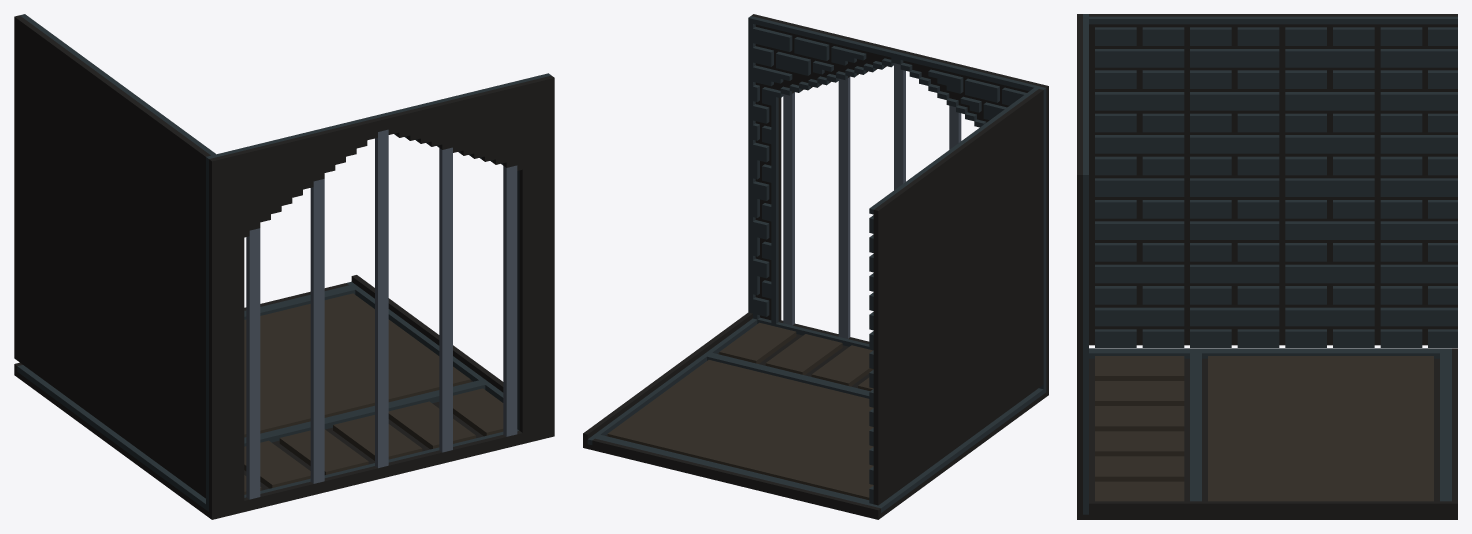
Rendered from corridor_gate_3.obj.
3 views of the same model, side by side, from view 1: azimuth 30°, elevation 25°; view 2: azimuth 150°, elevation 25°; view 3: azimuth 270°, elevation 25° (orthographic). The views are drawn at different scales.
Bounding box in the file's own units: 6.4 × 6.4 × 6.4.
Materials: 1 (1 with a texture image).
